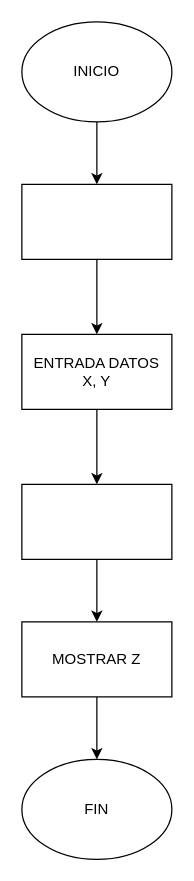
The diagram is 194 pixels wide and 881 high, and some of its shapes have lost their labels. Here are the shapes that lost their labels. From the top down, the centre of each, then its label:
At pixel 96 221: "X=0 Y=0 Z=0".
At pixel 96 521: "Z=X*Y".
